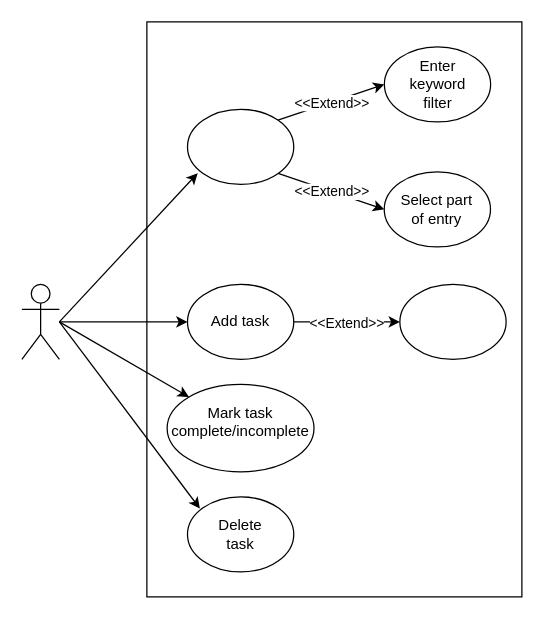
This 544x619 diagram has some shape labels left out. The box of each missing label's shape, as (x1, y1, x2, y2) in pixels:
Search tasks: (186, 108, 294, 184)
Set reminder: (399, 283, 506, 359)
User: (21, 283, 59, 359)
